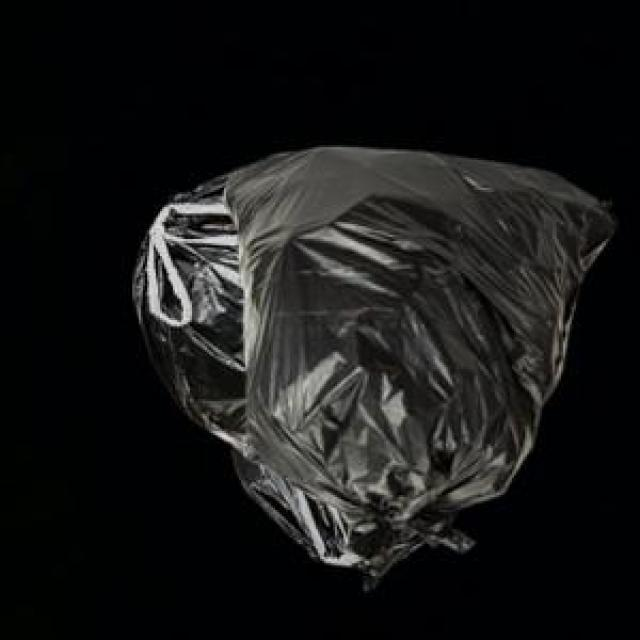Trashbag: (214, 140, 618, 552)
